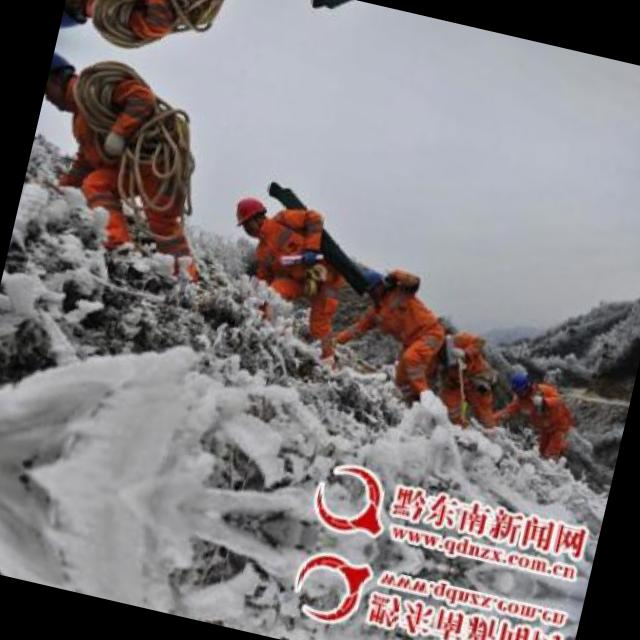helmet: (42, 50, 80, 114), (228, 190, 272, 234), (60, 0, 97, 36), (356, 264, 387, 298), (506, 368, 534, 397)
